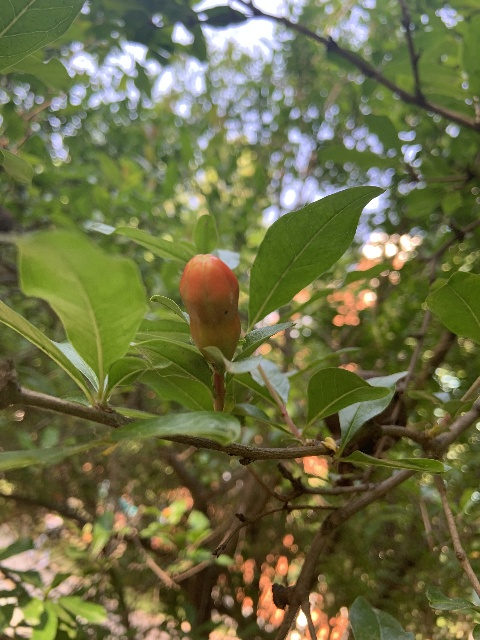bud: (179, 253, 240, 359)
